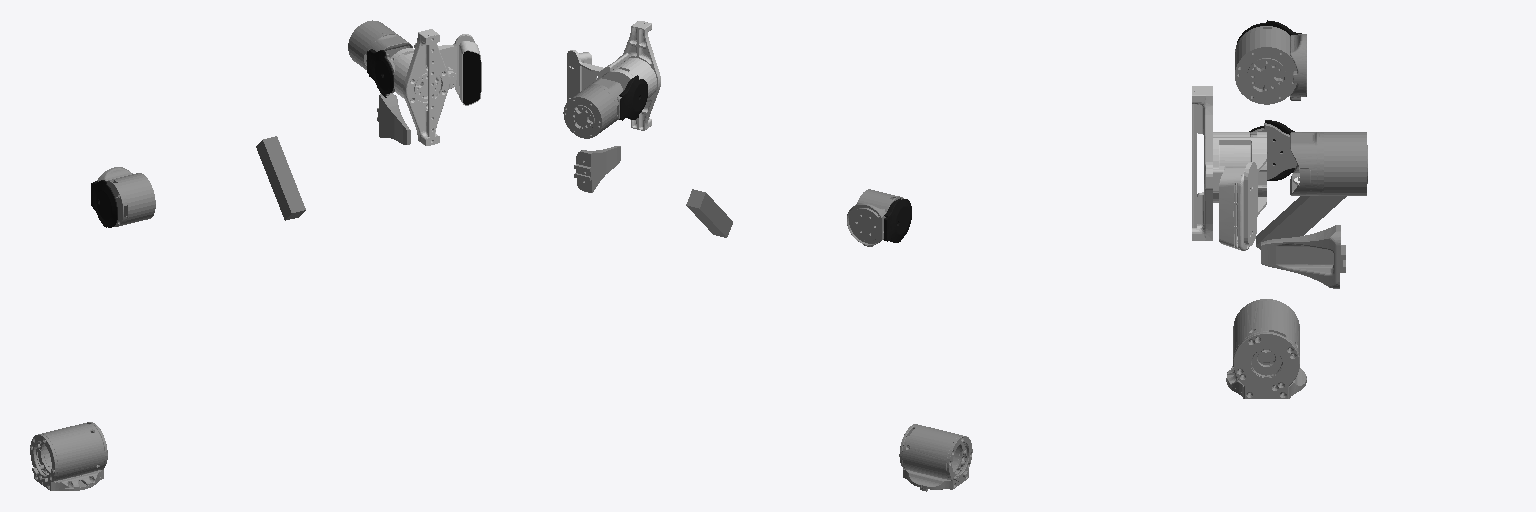
The robot description file, URDF, robot "franka":
<?xml version="1.0" encoding="utf-8"?>
<!-- =================================================================================== -->
<!-- |    This document was autogenerated by xacro from lula_franka.urdf.xacro         | -->
<!-- |    EDITING THIS FILE BY HAND IS NOT RECOMMENDED                                 | -->
<!-- =================================================================================== -->
<robot name="franka" xmlns:xacro="http://www.ros.org/wiki/xacro">
  <material name="aluminum">
    <color rgba="0.5 0.5 0.5 1"/>
  </material>
  <!-- camera body, with origin at bottom screw mount -->
  <joint name="camera_joint" type="fixed">
    <origin rpy="0 -1.57079632679 3.14159265359" xyz="0.0358116 0 0.0360562"/>
    <parent link="panda_hand"/>
    <child link="camera_bottom_screw_frame"/>
  </joint>
  <link name="camera_bottom_screw_frame"/>
  <joint name="camera_link_joint" type="fixed">
    <origin rpy="0 0 0" xyz="0 0.02 0.0115"/>
    <parent link="camera_bottom_screw_frame"/>
    <child link="camera_link"/>
  </joint>
  <link name="camera_link">
    <visual>
      <origin rpy="1.57079632679 0 1.57079632679" xyz="0.00987 -0.02 0"/>
      <geometry>
        <box size="0.099 0.023 0.02005"/>
        <!--<mesh filename="package://realsense2_camera/meshes/d415.stl" />-->
      </geometry>
      <material name="aluminum"/>
    </visual>
    <collision>
      <origin rpy="0 0 0" xyz="0 -0.02 0"/>
      <geometry>
        <box size="0.02005 0.099 0.023"/>
      </geometry>
    </collision>
    <inertial>
      <!-- The following are not reliable values, and should not be used for modeling -->
      <mass value="0.564"/>
      <origin xyz="0 0 0"/>
      <inertia ixx="0.003881243" ixy="0.0" ixz="0.0" iyy="0.000498940" iyz="0.0" izz="0.003879257"/>
    </inertial>
  </link>
  <!-- camera depth joints and links -->
  <joint name="camera_depth_joint" type="fixed">
    <origin rpy="0 0 0" xyz="0 0 0"/>
    <parent link="camera_link"/>
    <child link="camera_depth_frame"/>
  </joint>
  <link name="camera_depth_frame"/>
  <joint name="camera_depth_optical_joint" type="fixed">
    <origin rpy="-1.57079632679 0 -1.57079632679" xyz="0 0 0"/>
    <parent link="camera_depth_frame"/>
    <child link="camera_depth_optical_frame"/>
  </joint>
  <link name="camera_depth_optical_frame"/>
  <!-- camera left IR joints and links -->
  <joint name="camera_left_ir_joint" type="fixed">
    <origin rpy="0 0 0" xyz="0 0.0 0"/>
    <parent link="camera_depth_frame"/>
    <child link="camera_left_ir_frame"/>
  </joint>
  <link name="camera_left_ir_frame"/>
  <joint name="camera_left_ir_optical_joint" type="fixed">
    <origin rpy="-1.57079632679 0 -1.57079632679" xyz="0 0 0"/>
    <parent link="camera_left_ir_frame"/>
    <child link="camera_left_ir_optical_frame"/>
  </joint>
  <link name="camera_left_ir_optical_frame"/>
  <!-- camera right IR joints and links -->
  <joint name="camera_right_ir_joint" type="fixed">
    <origin rpy="0 0 0" xyz="0 -0.055 0"/>
    <parent link="camera_depth_frame"/>
    <child link="camera_right_ir_frame"/>
  </joint>
  <link name="camera_right_ir_frame"/>
  <joint name="camera_right_ir_optical_joint" type="fixed">
    <origin rpy="-1.57079632679 0 -1.57079632679" xyz="0 0 0"/>
    <parent link="camera_right_ir_frame"/>
    <child link="camera_right_ir_optical_frame"/>
  </joint>
  <link name="camera_right_ir_optical_frame"/>
  <!-- camera color joints and links -->
  <joint name="camera_color_joint" type="fixed">
    <origin rpy="0 0 0" xyz="0 0.015 0"/>
    <parent link="camera_depth_frame"/>
    <child link="camera_color_frame"/>
  </joint>
  <link name="camera_color_frame"/>
  <joint name="camera_color_optical_joint" type="fixed">
    <origin rpy="-1.57079632679 0 -1.57079632679" xyz="0 0 0"/>
    <parent link="camera_color_frame"/>
    <child link="camera_color_optical_frame"/>
  </joint>
  <link name="camera_color_optical_frame"/>
  <link name="panda_link0">
    <visual>
      <geometry>
        <mesh filename="package://franka_description/meshes/visual/link0.dae"/>
      </geometry>
    </visual>
    <collision>
      <geometry>
        <mesh filename="package://franka_description/meshes/collision/link0.stl"/>
      </geometry>
    </collision>
  </link>
  <link name="panda_link1">
    <visual>
      <geometry>
        <mesh filename="package://franka_description/meshes/visual/link1.dae"/>
      </geometry>
    </visual>
    <collision>
      <geometry>
        <mesh filename="package://franka_description/meshes/collision/link1.stl"/>
      </geometry>
    </collision>
  </link>
  <joint name="panda_joint1" type="revolute">
    <safety_controller k_position="100.0" k_velocity="40.0" soft_lower_limit="-2.8973" soft_upper_limit="2.8973"/>
    <origin rpy="0 0 0" xyz="0 0 0.333"/>
    <parent link="panda_link0"/>
    <child link="panda_link1"/>
    <axis xyz="0 0 1"/>
    <limit effort="87" lower="-2.8973" upper="2.8973" velocity="2.1750"/>
  </joint>
  <link name="panda_link2">
    <visual>
      <geometry>
        <mesh filename="package://franka_description/meshes/visual/link2.dae"/>
      </geometry>
    </visual>
    <collision>
      <geometry>
        <mesh filename="package://franka_description/meshes/collision/link2.stl"/>
      </geometry>
    </collision>
  </link>
  <joint name="panda_joint2" type="revolute">
    <safety_controller k_position="100.0" k_velocity="40.0" soft_lower_limit="-1.7628" soft_upper_limit="1.7628"/>
    <origin rpy="-1.57079632679 0 0" xyz="0 0 0"/>
    <parent link="panda_link1"/>
    <child link="panda_link2"/>
    <axis xyz="0 0 1"/>
    <limit effort="87" lower="-1.7628" upper="1.7628" velocity="2.1750"/>
  </joint>
  <link name="panda_link3">
    <visual>
      <geometry>
        <mesh filename="package://franka_description/meshes/visual/link3.dae"/>
      </geometry>
    </visual>
    <collision>
      <geometry>
        <mesh filename="package://franka_description/meshes/collision/link3.stl"/>
      </geometry>
    </collision>
  </link>
  <joint name="panda_joint3" type="revolute">
    <safety_controller k_position="100.0" k_velocity="40.0" soft_lower_limit="-2.8973" soft_upper_limit="2.8973"/>
    <origin rpy="1.57079632679 0 0" xyz="0 -0.316 0"/>
    <parent link="panda_link2"/>
    <child link="panda_link3"/>
    <axis xyz="0 0 1"/>
    <limit effort="87" lower="-2.8973" upper="2.8973" velocity="2.1750"/>
  </joint>
  <link name="panda_link4">
    <visual>
      <geometry>
        <mesh filename="package://franka_description/meshes/visual/link4.dae"/>
      </geometry>
    </visual>
    <collision>
      <geometry>
        <mesh filename="package://franka_description/meshes/collision/link4.stl"/>
      </geometry>
    </collision>
  </link>
  <joint name="panda_joint4" type="revolute">
    <safety_controller k_position="100.0" k_velocity="40.0" soft_lower_limit="-3.0718" soft_upper_limit="-0.0698"/>
    <origin rpy="1.57079632679 0 0" xyz="0.0825 0 0"/>
    <parent link="panda_link3"/>
    <child link="panda_link4"/>
    <axis xyz="0 0 1"/>
    <limit effort="87" lower="-3.0718" upper="-0.0698" velocity="2.1750"/>
  </joint>
  <link name="panda_link5">
    <visual>
      <geometry>
        <mesh filename="package://franka_description/meshes/visual/link5.dae"/>
      </geometry>
    </visual>
    <collision>
      <geometry>
        <mesh filename="package://franka_description/meshes/collision/link5.stl"/>
      </geometry>
    </collision>
  </link>
  <joint name="panda_joint5" type="revolute">
    <safety_controller k_position="100.0" k_velocity="40.0" soft_lower_limit="-2.8973" soft_upper_limit="2.8973"/>
    <origin rpy="-1.57079632679 0 0" xyz="-0.0825 0.384 0"/>
    <parent link="panda_link4"/>
    <child link="panda_link5"/>
    <axis xyz="0 0 1"/>
    <limit effort="12" lower="-2.8973" upper="2.8973" velocity="2.6100"/>
  </joint>
  <link name="panda_link6">
    <visual>
      <geometry>
        <mesh filename="package://franka_description/meshes/visual/link6.dae"/>
      </geometry>
    </visual>
    <collision>
      <geometry>
        <mesh filename="package://franka_description/meshes/collision/link6.stl"/>
      </geometry>
    </collision>
  </link>
  <joint name="panda_joint6" type="revolute">
    <safety_controller k_position="100.0" k_velocity="40.0" soft_lower_limit="-0.0175" soft_upper_limit="3.7525"/>
    <origin rpy="1.57079632679 0 0" xyz="0 0 0"/>
    <parent link="panda_link5"/>
    <child link="panda_link6"/>
    <axis xyz="0 0 1"/>
    <limit effort="12" lower="-0.0175" upper="3.7525" velocity="2.6100"/>
  </joint>
  <link name="panda_link7">
    <visual>
      <geometry>
        <mesh filename="package://franka_description/meshes/visual/link7.dae"/>
      </geometry>
    </visual>
    <collision>
      <geometry>
        <mesh filename="package://franka_description/meshes/collision/link7.stl"/>
      </geometry>
    </collision>
  </link>
  <joint name="panda_joint7" type="revolute">
    <safety_controller k_position="100.0" k_velocity="40.0" soft_lower_limit="-2.8973" soft_upper_limit="2.8973"/>
    <origin rpy="1.57079632679 0 0" xyz="0.088 0 0"/>
    <parent link="panda_link6"/>
    <child link="panda_link7"/>
    <axis xyz="0 0 1"/>
    <limit effort="12" lower="-2.8973" upper="2.8973" velocity="2.6100"/>
  </joint>
  <link name="panda_link8"/>
  <joint name="panda_joint8" type="fixed">
    <origin rpy="0 0 0" xyz="0 0 0.107"/>
    <parent link="panda_link7"/>
    <child link="panda_link8"/>
    <axis xyz="0 0 0"/>
  </joint>
  <joint name="panda_hand_joint" type="fixed">
    <parent link="panda_link8"/>
    <child link="panda_hand"/>
    <origin rpy="0 0 -0.785398163397" xyz="0 0 0"/>
  </joint>
  <link name="panda_hand">
    <visual>
      <geometry>
        <mesh filename="package://franka_description/meshes/visual/hand.dae"/>
      </geometry>
    </visual>
    <collision>
      <geometry>
        <mesh filename="package://franka_description/meshes/collision/hand.stl"/>
      </geometry>
    </collision>
  </link>
  <link name="panda_leftfinger">
    <visual>
      <geometry>
        <mesh filename="package://franka_description/meshes/visual/finger.dae"/>
      </geometry>
    </visual>
    <collision>
      <geometry>
        <mesh filename="package://franka_description/meshes/collision/finger.stl"/>
      </geometry>
    </collision>
  </link>
  <link name="panda_rightfinger">
    <visual>
      <origin rpy="0 0 3.14159265359" xyz="0 0 0"/>
      <geometry>
        <mesh filename="package://franka_description/meshes/visual/finger.dae"/>
      </geometry>
    </visual>
    <collision>
      <origin rpy="0 0 3.14159265359" xyz="0 0 0"/>
      <geometry>
        <mesh filename="package://franka_description/meshes/collision/finger.stl"/>
      </geometry>
    </collision>
  </link>
  <joint name="panda_finger_joint1" type="prismatic">
    <parent link="panda_hand"/>
    <child link="panda_leftfinger"/>
    <origin rpy="0 0 0" xyz="0 0 0.0584"/>
    <axis xyz="0 1 0"/>
    <limit effort="20" lower="0.0" upper="0.04" velocity="0.2"/>
  </joint>
  <joint name="panda_finger_joint2" type="prismatic">
    <parent link="panda_hand"/>
    <child link="panda_rightfinger"/>
    <origin rpy="0 0 0" xyz="0 0 0.0584"/>
    <axis xyz="0 -1 0"/>
    <limit effort="20" lower="0.0" upper="0.04" velocity="0.2"/>
    <mimic joint="panda_finger_joint1"/>
  </joint>
  <link name="base_link"/>
  <joint name="base_link_robot" type="fixed">
    <origin rpy="0 0 0" xyz="0.0 0.0 0.0"/>
    <axis xyz="0 0 1"/>
    <parent link="base_link"/>
    <child link="panda_link0"/>
  </joint>
  <link name="right_gripper"/>
  <joint name="right_gripper" type="fixed">
    <origin rpy="0 0 2.35619449019" xyz="0.0 0 0.1"/>
    <axis xyz="0 0 1"/>
    <parent link="panda_link8"/>
    <child link="right_gripper"/>
  </joint>
  <link name="panda_rightfingertip"/>
  <joint name="panda_rightfingertip" type="fixed">
    <origin rpy="0 0 3.14159265359" xyz="0.0 0 0.045"/>
    <axis xyz="0 0 1"/>
    <parent link="panda_rightfinger"/>
    <child link="panda_rightfingertip"/>
  </joint>
  <link name="panda_leftfingertip"/>
  <joint name="panda_leftfingertip" type="fixed">
    <origin rpy="0 0 3.14159265359" xyz="0.0 0 0.045"/>
    <axis xyz="0 0 1"/>
    <parent link="panda_leftfinger"/>
    <child link="panda_leftfingertip"/>
  </joint>
  <link name="panda_forearm_end_pt"/>
  <joint name="panda_forearm_end_pt" type="fixed">
    <origin rpy="0 0 0.0" xyz="-0.09 0.02 0.0"/>
    <axis xyz="0 0 1"/>
    <parent link="panda_link4"/>
    <child link="panda_forearm_end_pt"/>
  </joint>
  <link name="panda_forearm_mid_pt"/>
  <joint name="panda_forearm_mid_pt" type="fixed">
    <origin rpy="0 0 0" xyz="0.0 0.175 0.0"/>
    <axis xyz="0 0 1"/>
    <parent link="panda_forearm_end_pt"/>
    <child link="panda_forearm_mid_pt"/>
  </joint>
  <link name="panda_forearm_mid_pt_shifted"/>
  <joint name="panda_forearm_mid_pt_shifted" type="fixed">
    <origin rpy="0 0 0" xyz="0.0 0.0 -0.05"/>
    <axis xyz="0 0 1"/>
    <parent link="panda_forearm_mid_pt"/>
    <child link="panda_forearm_mid_pt_shifted"/>
  </joint>
  <link name="panda_forearm_distal"/>
  <joint name="panda_forearm_distal" type="fixed">
    <origin rpy="0 0 0" xyz="0.0 0.1 0.0"/>
    <axis xyz="0 0 1"/>
    <parent link="panda_link5"/>
    <child link="panda_forearm_distal"/>
  </joint>
  <link name="panda_wrist_end_pt"/>
  <joint name="panda_wrist_end_pt" type="fixed">
    <origin rpy="0 0 0.0" xyz="0.0 0.0 -0.07"/>
    <axis xyz="0 0 1"/>
    <parent link="panda_link7"/>
    <child link="panda_wrist_end_pt"/>
  </joint>
  <link name="panda_face_left"/>
  <joint name="panda_face_left" type="fixed">
    <origin rpy="0 0 0" xyz="0.0 0.07 0.04"/>
    <axis xyz="0 0 1"/>
    <parent link="panda_hand"/>
    <child link="panda_face_left"/>
  </joint>
  <link name="panda_face_right"/>
  <joint name="panda_face_right" type="fixed">
    <origin rpy="0 0 0" xyz="0.0 -0.07 0.04"/>
    <axis xyz="0 0 1"/>
    <parent link="panda_hand"/>
    <child link="panda_face_right"/>
  </joint>
  <link name="panda_face_back_left"/>
  <joint name="panda_face_back_left" type="fixed">
    <origin rpy="0 0 0" xyz="0.0 0.07 0.0"/>
    <axis xyz="0 0 1"/>
    <parent link="panda_hand"/>
    <child link="panda_face_back_left"/>
  </joint>
  <link name="panda_face_back_right"/>
  <joint name="panda_face_back_right" type="fixed">
    <origin rpy="0 0 0" xyz="0.0 -0.07 0.0"/>
    <axis xyz="0 0 1"/>
    <parent link="panda_hand"/>
    <child link="panda_face_back_right"/>
  </joint>
  <!--<link name="left_gripper"/>
  <joint name="left_gripper" type="fixed">
    <origin rpy="0 0 ${pi/2}" xyz="0 0 0.13"/>
    <axis xyz="0 0 1"/>
    <parent link="gripper_l_base"/>
    <child link="left_gripper"/>
  </joint>
  -->
</robot>

--- What the picture shows (computed from the rendered views, not written in the file) ---
Views: 3 orthographic renders of the robot side by side, from view 1: azimuth 30°, elevation 25°; view 2: azimuth 150°, elevation 25°; view 3: azimuth 270°, elevation 25°.
Model franka with 35 links and 34 joints (7 revolute, 2 prismatic, 25 fixed), rooted at base_link, posed all joints at 0 but 1 set to mid-range because 0 is outside their limits (panda_joint4 = -1.57).
Visible links, largest first — view 1: panda_link6, panda_link1, panda_link4, panda_link5, camera_link, panda_link7; view 2: panda_link1, panda_link6, panda_link5, panda_link4, panda_link7, camera_link; view 3: panda_link6, panda_link1, panda_link5, panda_link4, panda_link7, camera_link.
Boxes of the visible links, left/top/right/bottom form: panda_link6: left=391, top=29, right=481, bottom=145; panda_link1: left=30, top=422, right=107, bottom=490; panda_link4: left=91, top=167, right=155, bottom=227; panda_link5: left=348, top=20, right=412, bottom=97; camera_link: left=256, top=136, right=305, bottom=220; panda_link7: left=377, top=93, right=410, bottom=144; panda_link1: left=899, top=424, right=972, bottom=491; panda_link6: left=567, top=21, right=660, bottom=130; panda_link5: left=563, top=75, right=647, bottom=138; panda_link4: left=847, top=189, right=911, bottom=246; panda_link7: left=574, top=146, right=620, bottom=192; camera_link: left=686, top=189, right=732, bottom=237; panda_link6: left=1192, top=86, right=1266, bottom=250; panda_link1: left=1226, top=299, right=1306, bottom=398; panda_link5: left=1249, top=120, right=1367, bottom=195; panda_link4: left=1235, top=20, right=1306, bottom=104; panda_link7: left=1261, top=225, right=1345, bottom=288; camera_link: left=1256, top=196, right=1346, bottom=249.
Bounding box of the posed robot: 0.5961 × 0.158 × 0.514 m (x, y, z).
Meshes: 10 distinct files referenced, 5 mesh visuals loaded (5 Collada DAE); not drawn: 6 (reference not matched to a file when rendering).
